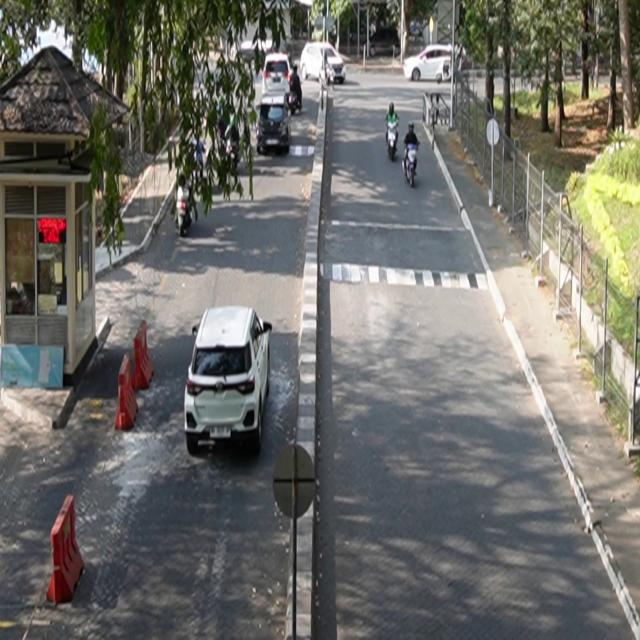car: (185, 306, 273, 456), (404, 45, 467, 84), (301, 42, 347, 85)
